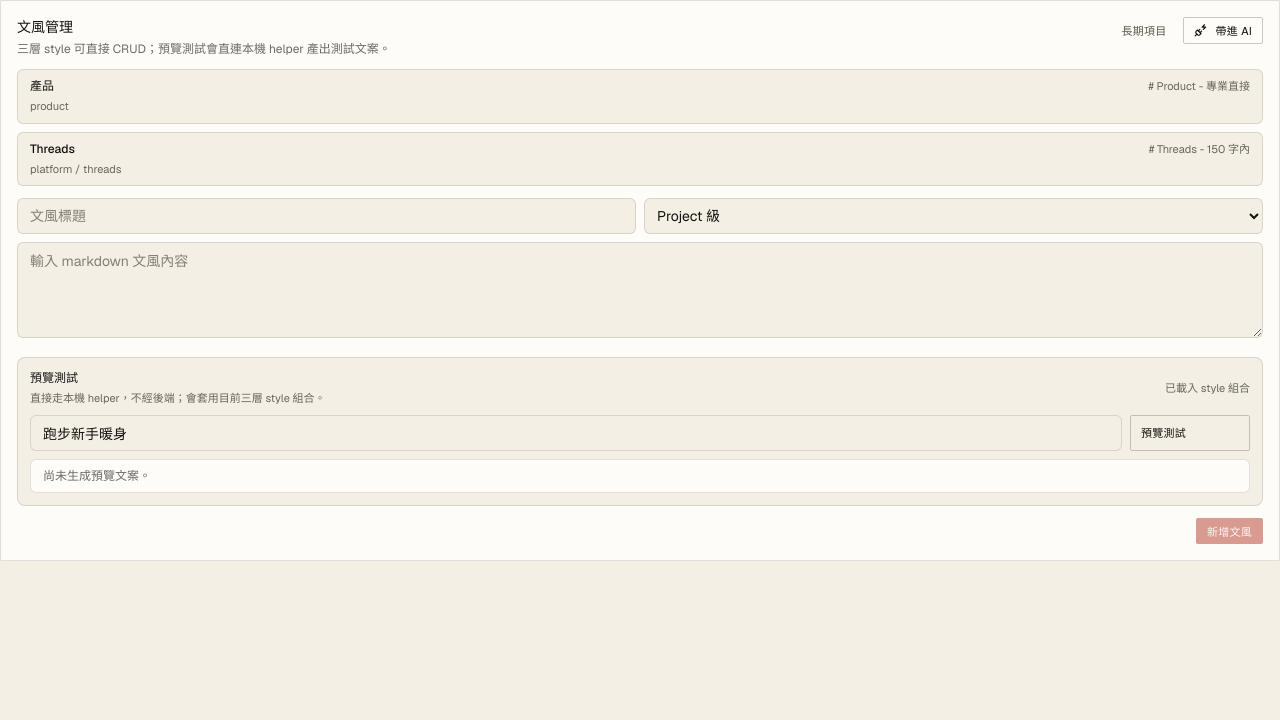
Scenario: StyleManager › runs preview against local helper and shows a generated sample
The image size is (1280, 720).
Click the button "預覽測試" at (1190, 432), box [1130,414,1250,450]
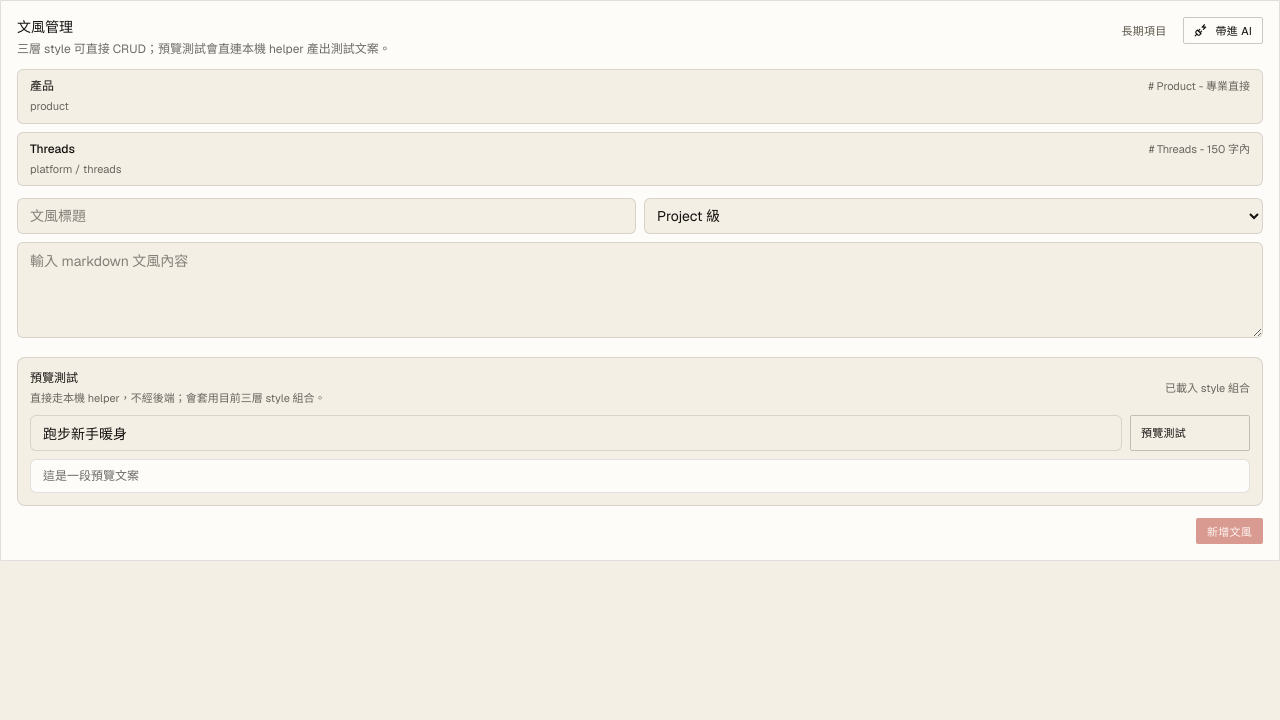
Check: the text "這是一段預覽文案" is shown, box [30,458,1250,492]
